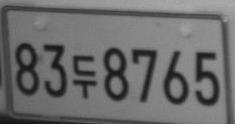3: (43, 43, 67, 97)
5: (194, 51, 220, 107)
6: (162, 49, 189, 105)
7: (131, 48, 157, 103)
8: (102, 46, 129, 101), (14, 41, 39, 96)
두: (72, 54, 96, 99)
